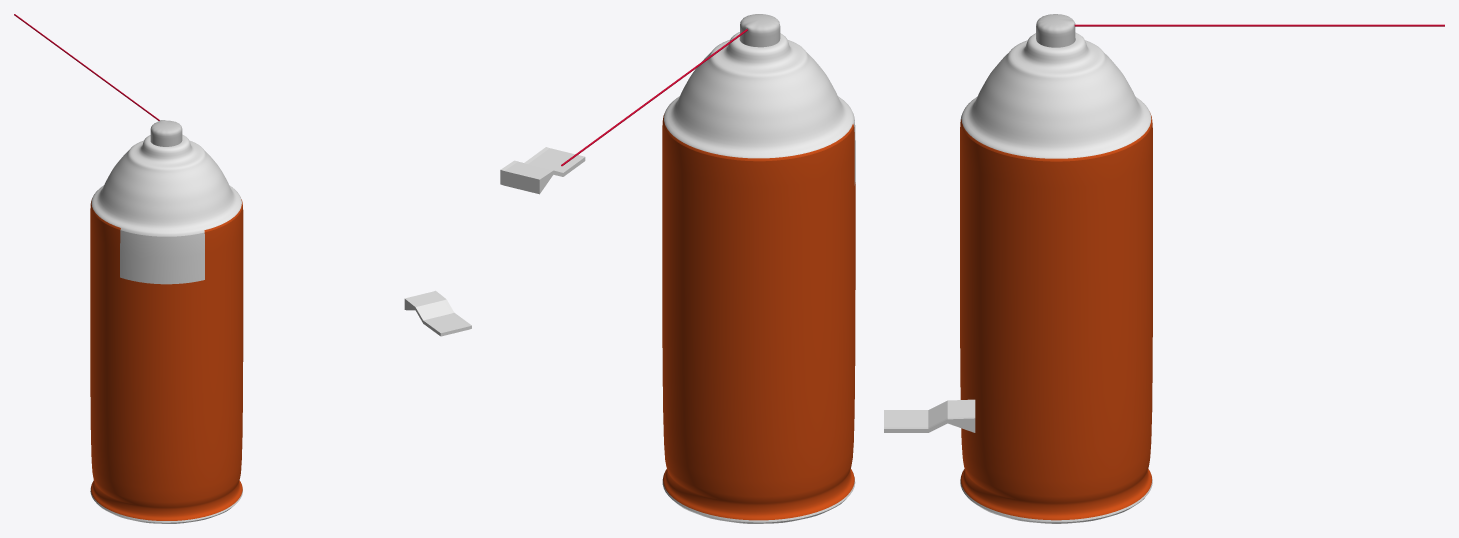
The model's file is Pesticidecan.fbx.
The picture shows the model from 3 angles, left to right: view 1: azimuth 30°, elevation 25°; view 2: azimuth 150°, elevation 25°; view 3: azimuth 270°, elevation 25°; orthographic projection. The views are drawn at different scales.
Visible parts, largest first — view 1: Cylinder, Plane, Cylinder.001; view 2: Cylinder, Plane, Cylinder.001, straw; view 3: Cylinder, Plane, Cylinder.001, straw.
Boxes of the visible parts, x1,y1,x2,y2 form: Cylinder: (90,134,243,523); Plane: (404,290,471,336); Cylinder.001: (150,120,182,146); Cylinder: (662,32,855,523); Plane: (500,147,585,194); Cylinder.001: (740,14,780,47); straw: (561,29,747,166); Cylinder: (960,32,1152,523); Plane: (884,399,975,432); Cylinder.001: (1036,14,1075,47); straw: (1074,24,1444,26).
Bounding box in the file's own units: 2.23 × 2.62 × 2.83.
